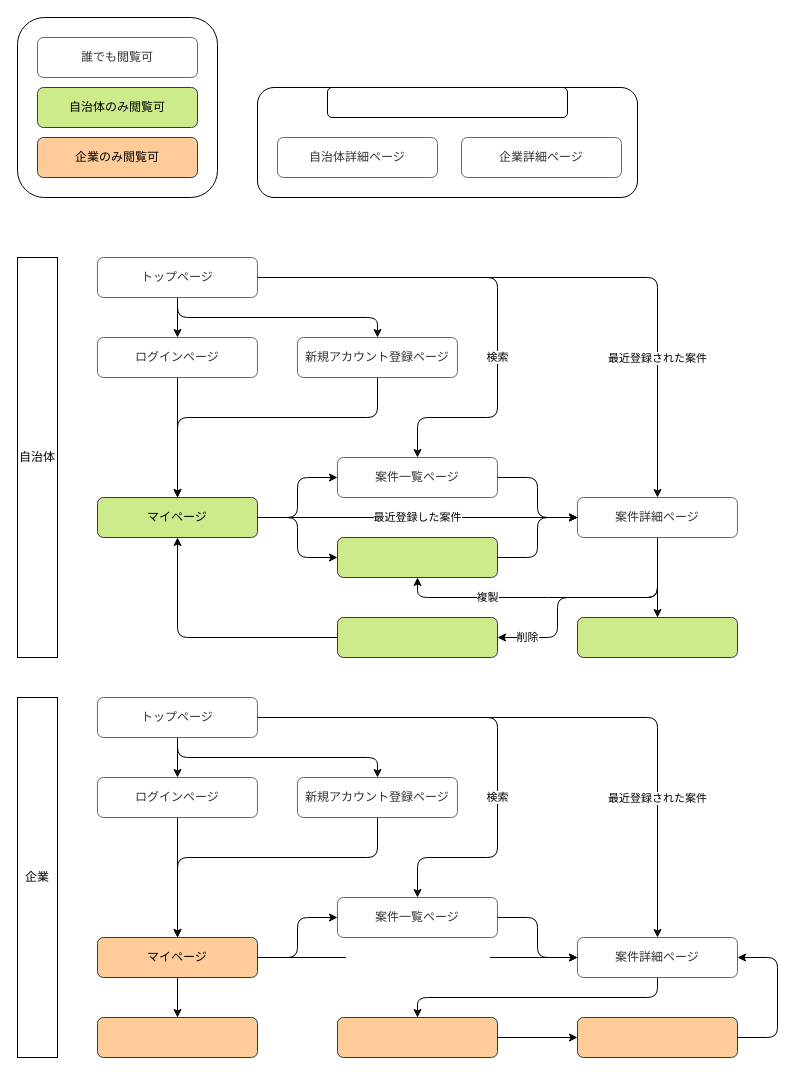
The diagram is 803 pixels wide and 1075 high, and some of its shapes have lost their labels. Here are the shapes that lost their labels. From the top down, the box of each, then its label:
(326, 86, 568, 118): 自治体名、企業名からリンクで遷移
(336, 536, 498, 578): 案件登録ページ
(336, 616, 498, 658): 案件削除完了ページ
(576, 616, 738, 658): 落札決定ページ
(96, 1016, 258, 1058): 検索ワード保存ページ
(336, 1016, 498, 1058): 入札ページ
(576, 1016, 738, 1058): 入札完了ページ
